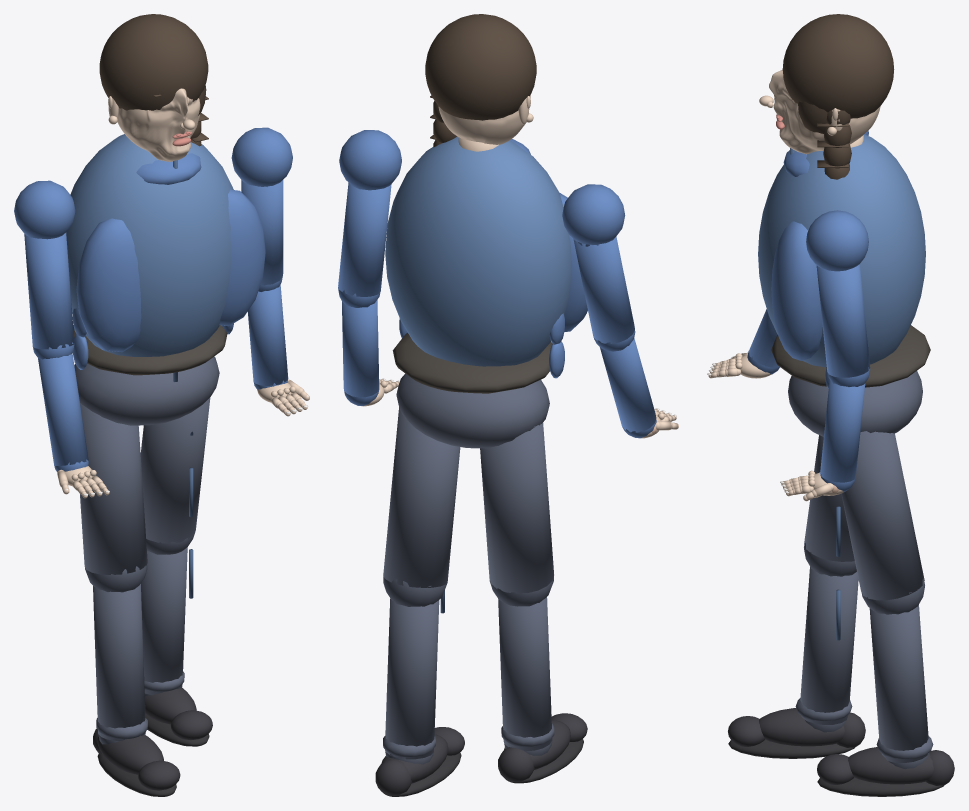
The model's file is hm_ped_rae_v7.glb.
The picture shows the model from 3 angles, left to right: view 1: azimuth 30°, elevation 25°; view 2: azimuth 150°, elevation 25°; view 3: azimuth 270°, elevation 25°; orthographic projection. The views are drawn at different scales.
Visible parts, largest first — view 1: hm_ped_rae; view 2: hm_ped_rae; view 3: hm_ped_rae.
Boxes of the visible parts, <box> form: hm_ped_rae: <box>14,14,309,796</box>; hm_ped_rae: <box>338,14,678,796</box>; hm_ped_rae: <box>707,14,954,796</box>.
Bounding box in the file's own units: 0.7402 × 1.85 × 0.551.
